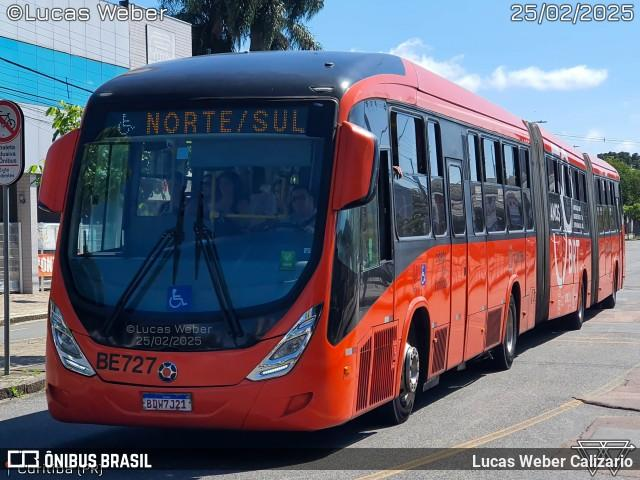NORTE SUL: (138, 105, 310, 138)
